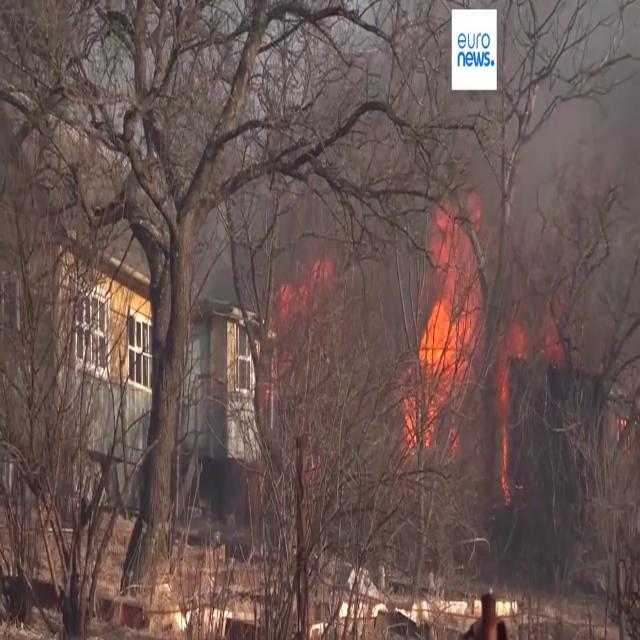Fire: (404, 187, 484, 444)
Smoke: (332, 0, 640, 333)
